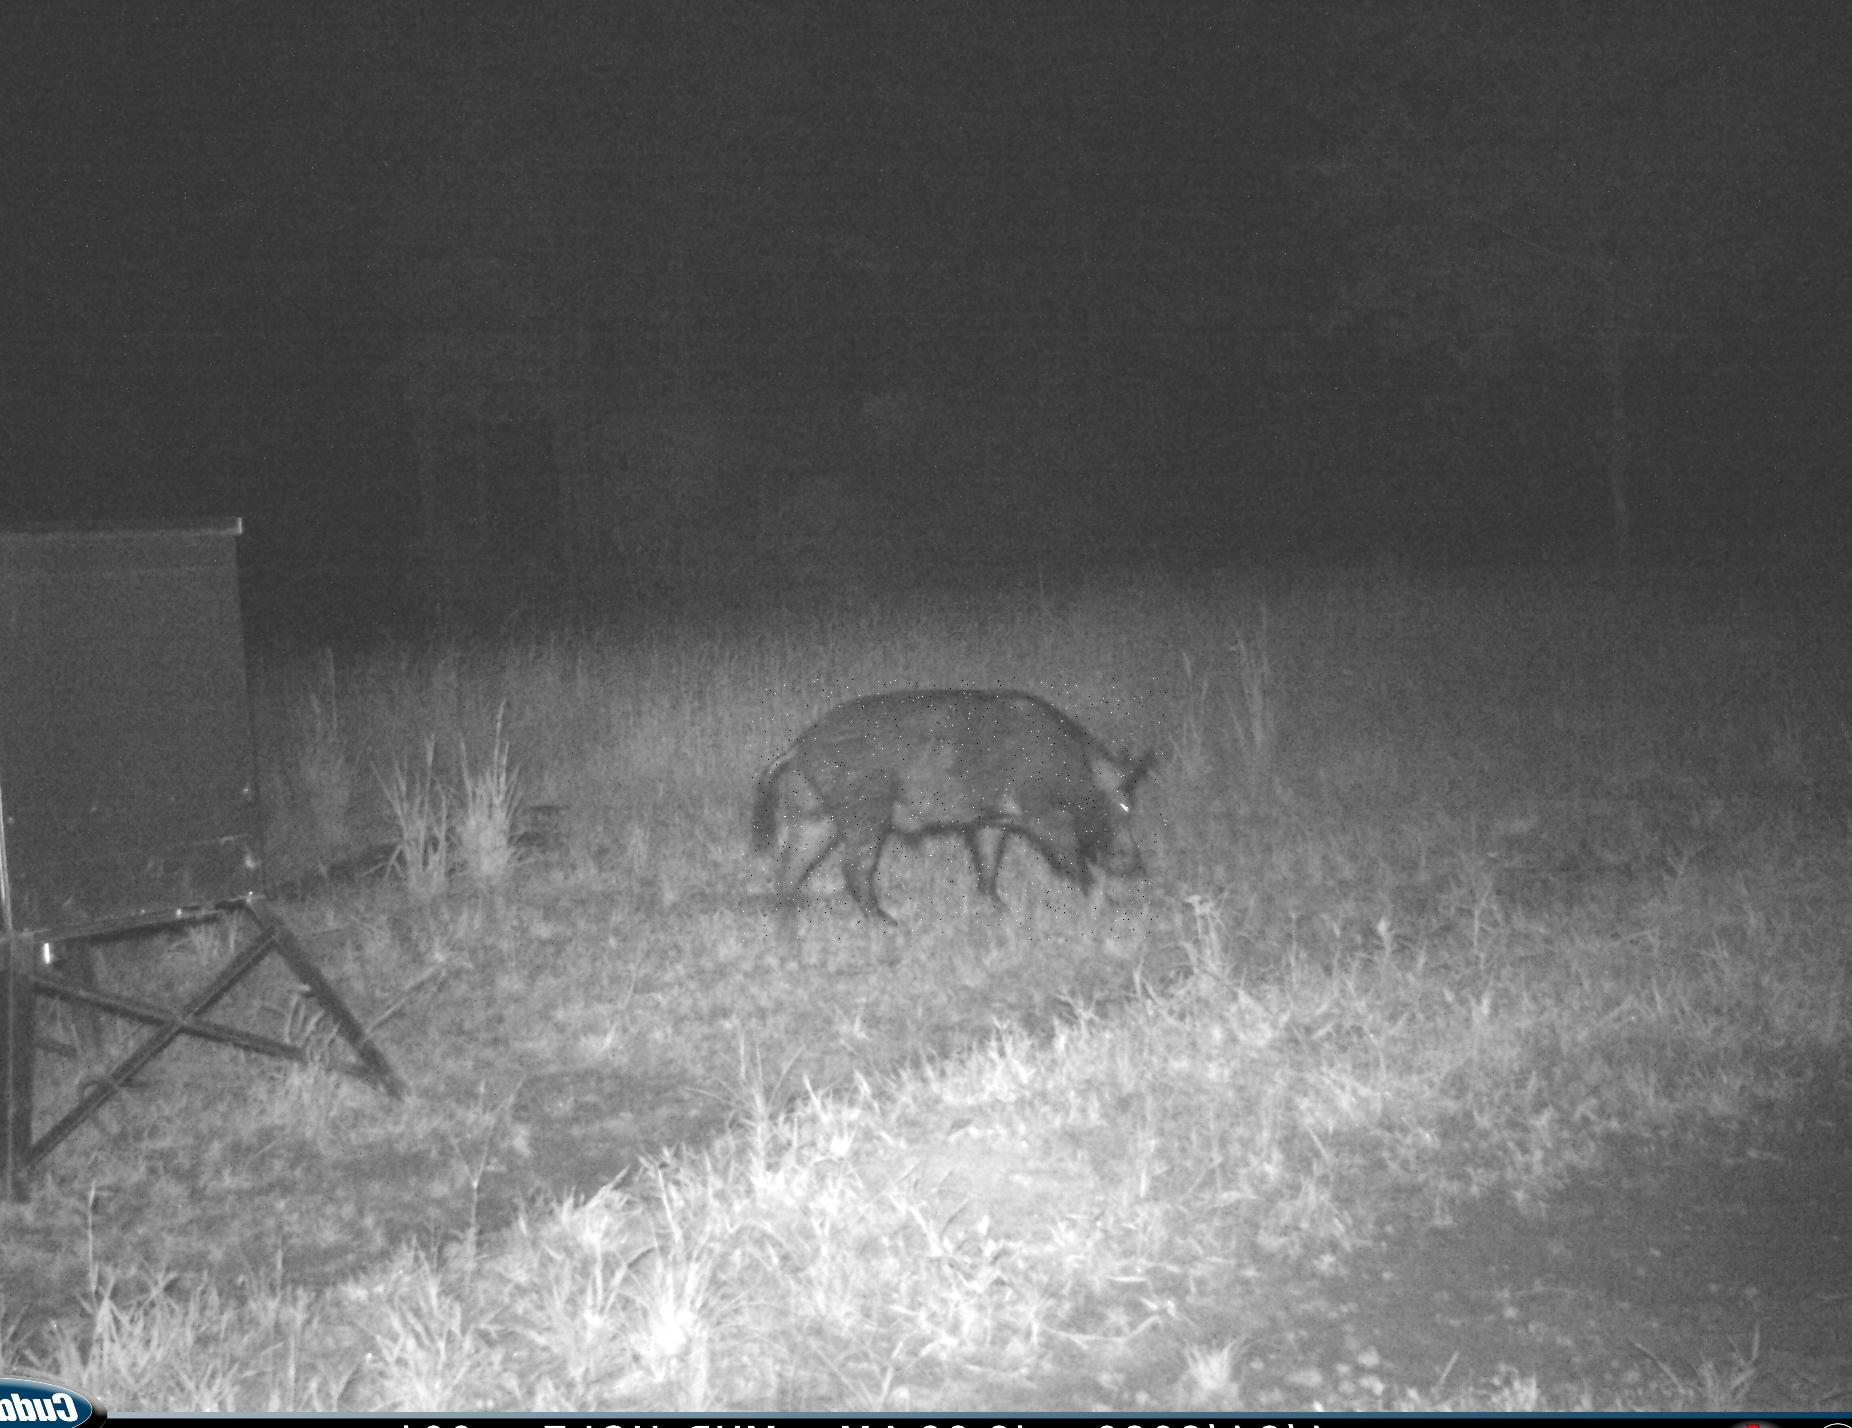Hog: (743, 677, 1167, 941)
